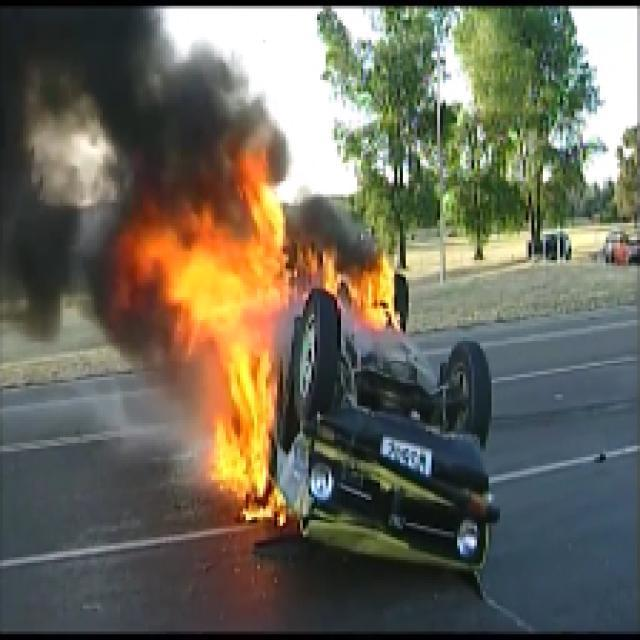Fire: (128, 186, 288, 528), (317, 246, 392, 323)
Smoke: (2, 6, 138, 340)
